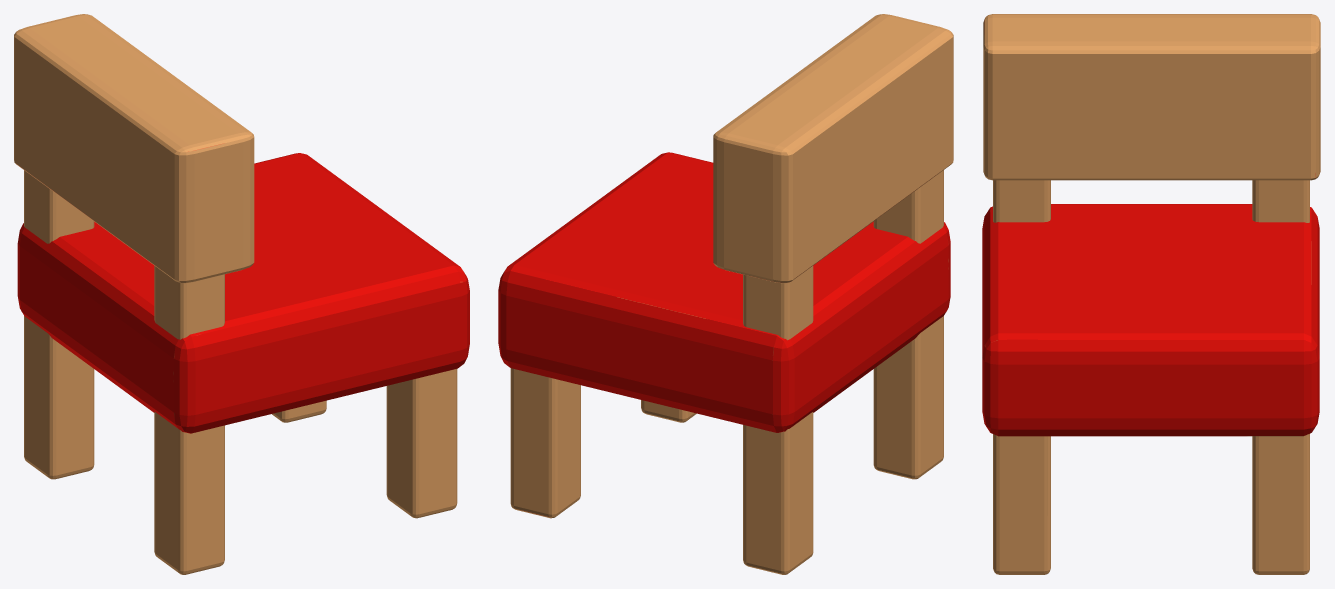
File: Chair.fbx
The picture shows the model from 3 angles, left to right: view 1: azimuth 30°, elevation 25°; view 2: azimuth 150°, elevation 25°; view 3: azimuth 270°, elevation 25°; orthographic projection.
Visible parts, largest first — view 1: Cube.003; view 2: Cube.003; view 3: Cube.003.
Boxes of the visible parts, x1=… form: Cube.003: x1=14, y1=14, x2=469, y2=574; Cube.003: x1=498, y1=14, x2=953, y2=574; Cube.003: x1=982, y1=14, x2=1320, y2=574.
Size of the model in its own units: 2.01 by 2.8 by 2.01.
Materials: 1 (1 with a texture image).
